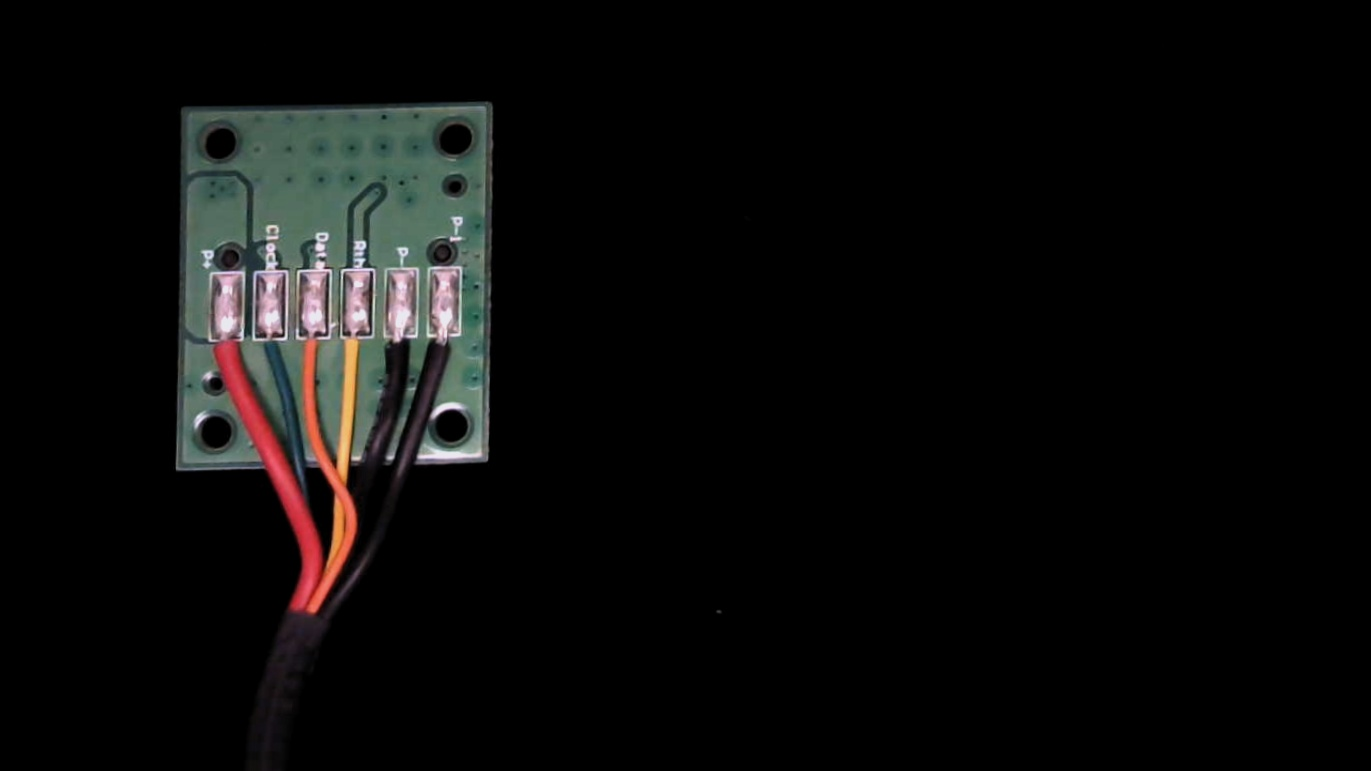Black: (382, 322, 417, 385)
Black1: (423, 321, 461, 384)
Green: (254, 323, 289, 381)
Orange: (296, 322, 328, 385)
Red: (204, 328, 245, 390)
Yellow: (338, 321, 371, 386)
